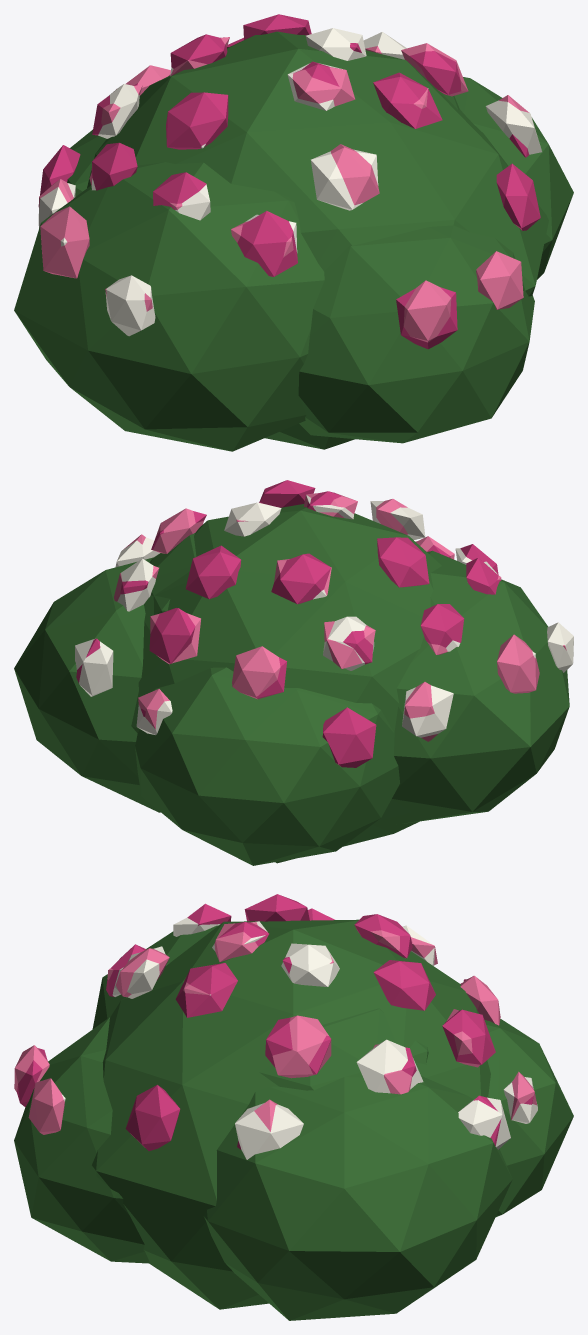
File: azalea.fbx
3 views of the same model, one above another, from view 1: azimuth 30°, elevation 25°; view 2: azimuth 150°, elevation 25°; view 3: azimuth 270°, elevation 25° (orthographic). The views are drawn at different scales.
Parts seen in each view (by area): view 1: Azalea_Leaf, Azalea_Magenta, Azalea_Pink, Azalea_White; view 2: Azalea_Leaf, Azalea_Magenta, Azalea_White, Azalea_Pink; view 3: Azalea_Leaf, Azalea_Magenta, Azalea_Pink, Azalea_White.
Part boxes in pixels (<box>): Azalea_Leaf: <box>14,31,573,451</box>; Azalea_Magenta: <box>38,14,540,349</box>; Azalea_Pink: <box>39,37,529,342</box>; Azalea_White: <box>38,28,541,336</box>; Azalea_Leaf: <box>14,504,569,865</box>; Azalea_Magenta: <box>76,480,501,767</box>; Azalea_White: <box>75,495,573,737</box>; Azalea_Pink: <box>114,493,566,741</box>; Azalea_Leaf: <box>14,919,573,1320</box>; Azalea_Magenta: <box>17,894,533,1150</box>; Azalea_Pink: <box>14,922,536,1134</box>; Azalea_White: <box>62,917,537,1159</box>.
Bounding box in the file's own units: 3.53 × 2.33 × 3.31.
